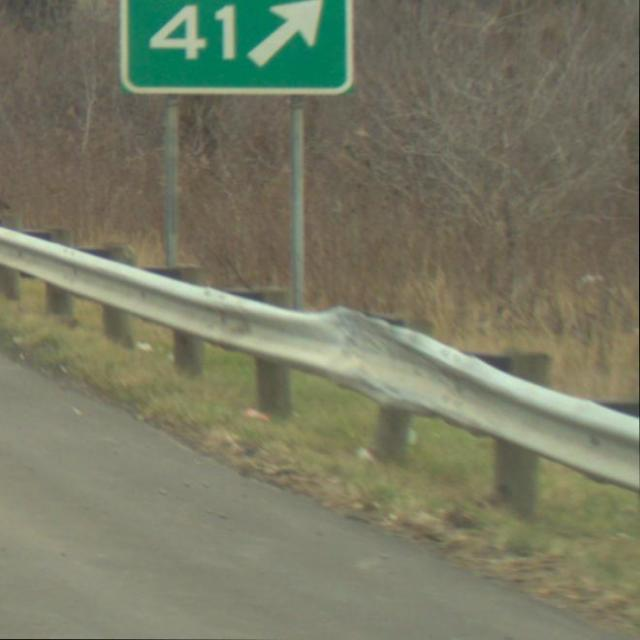Guard rail: (0, 212, 640, 556)
